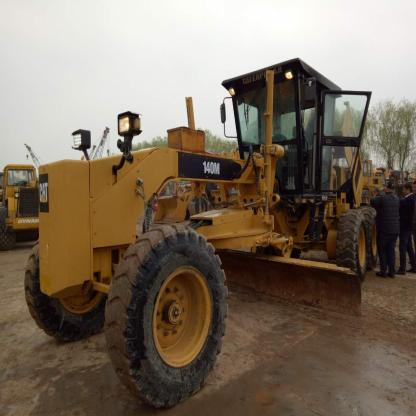bull_dozer/loader/grader: (21, 49, 405, 409)
